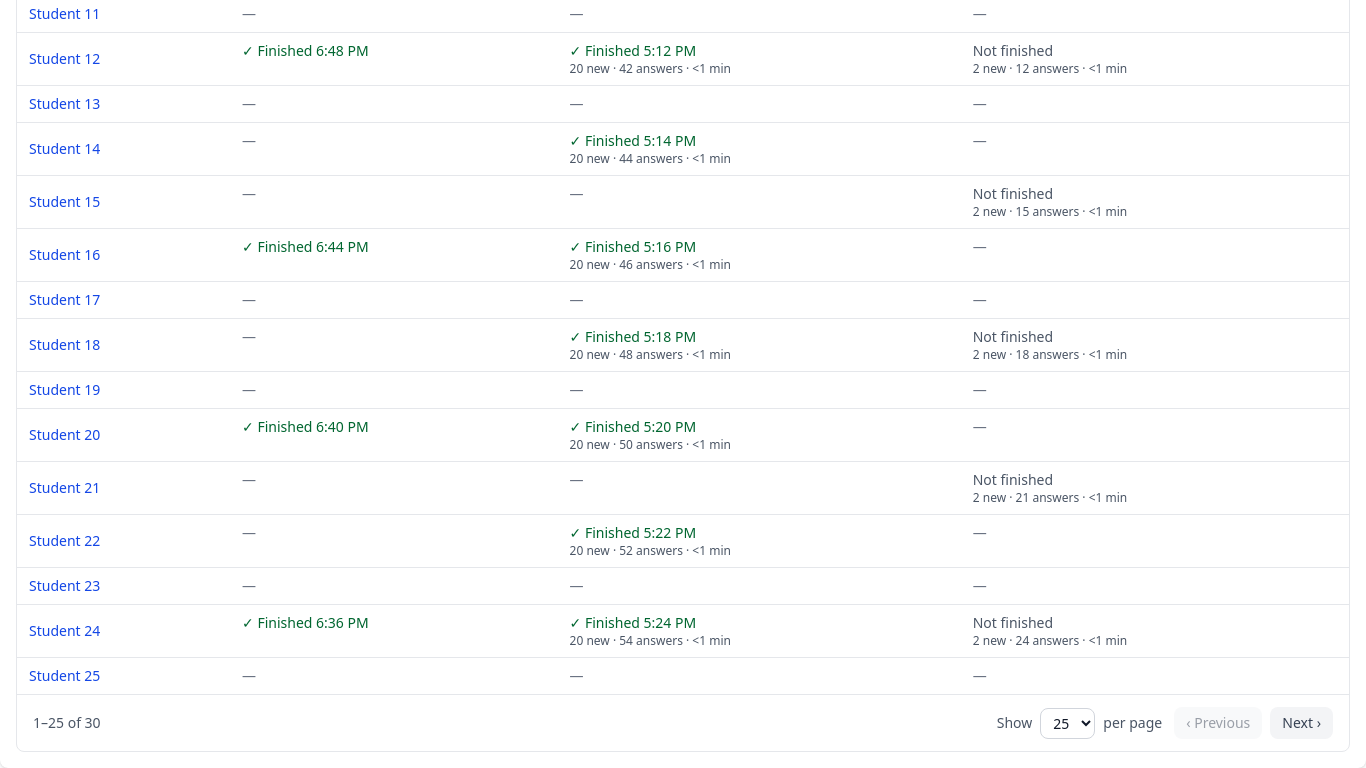
Test: GroupFlashcardsDay › a page of students at a time › searches students by name or email (a school ID in it), from the first page
(page scrolled)
Click the button "Next ›" at point(1302, 723), box [1270,707,1333,739]
(page scrolled)
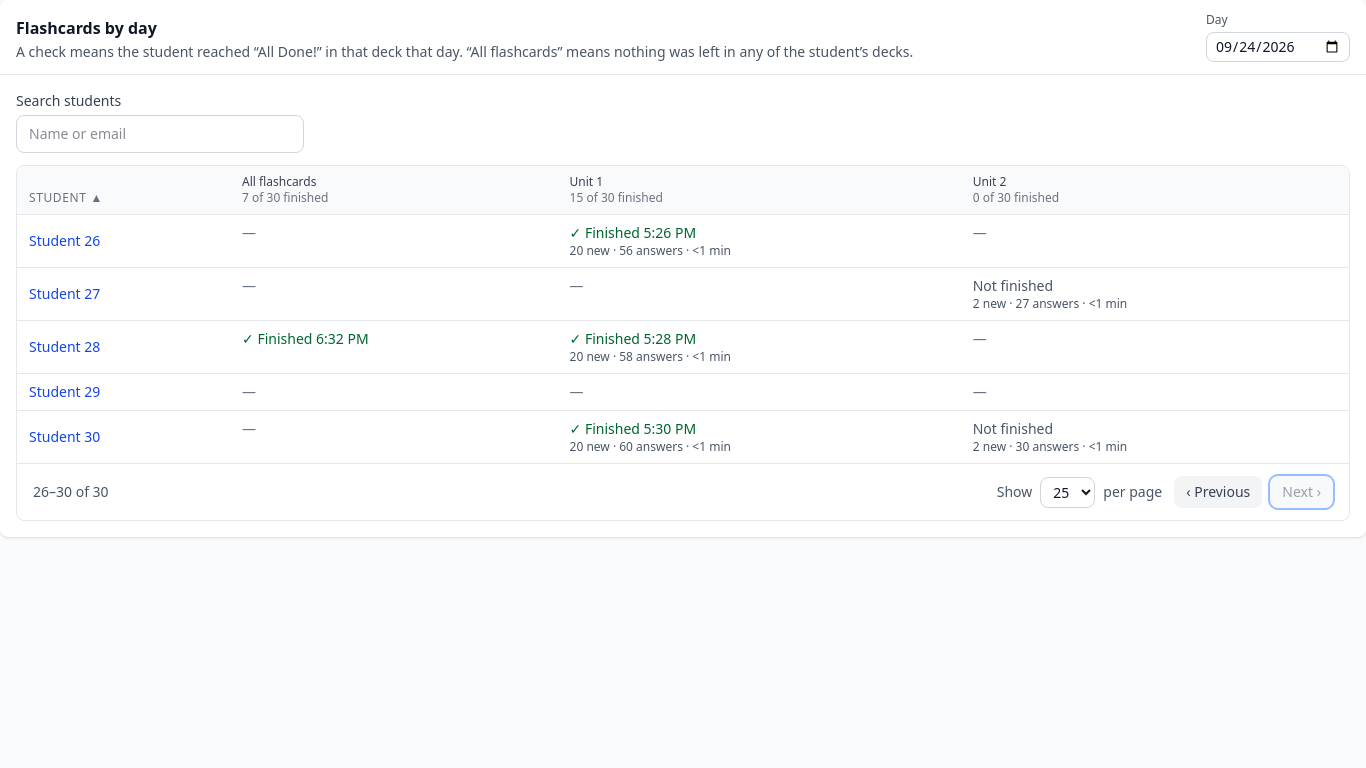
Type "student 1" into the search field labelled "Search students" at point(160, 134), box [16,115,304,153]
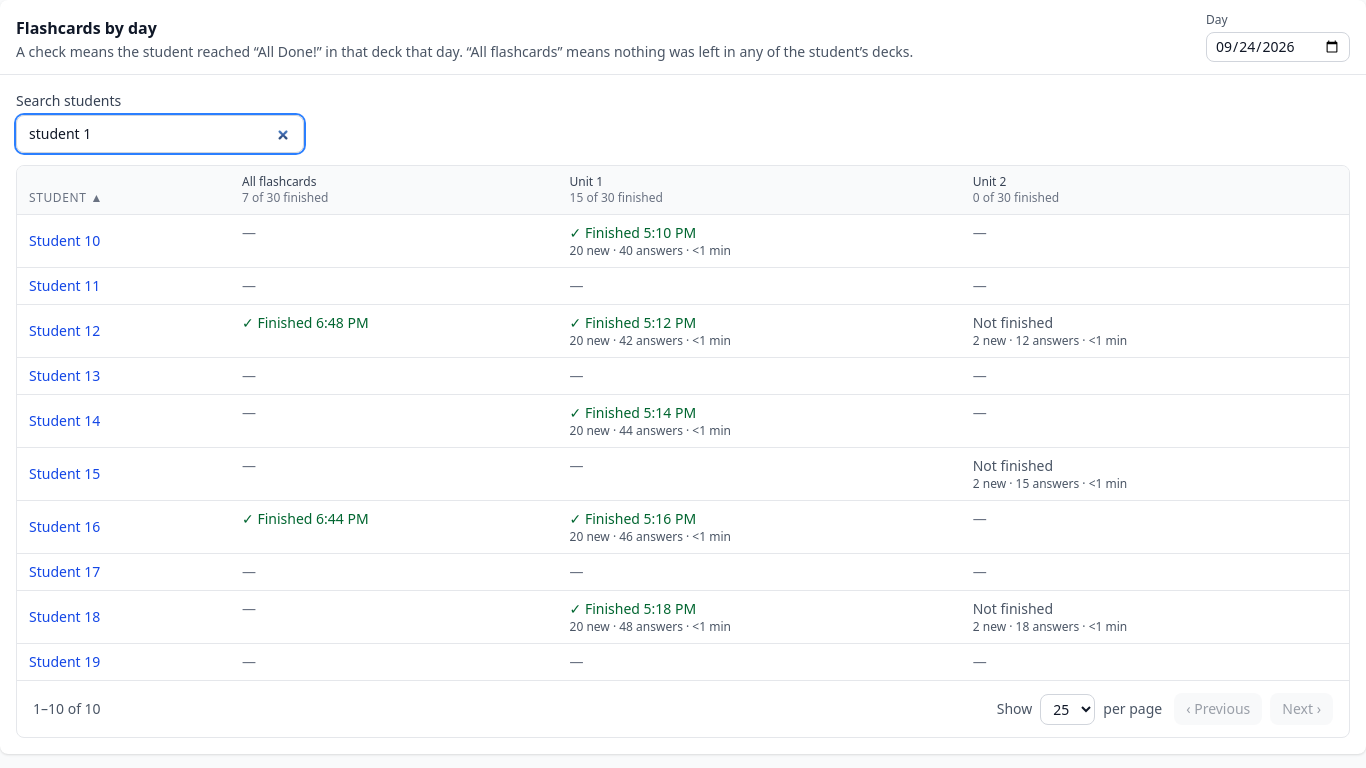
Replace the text in the search field labelled "Search students" with "20027" at point(160, 134), box [16,115,304,153]
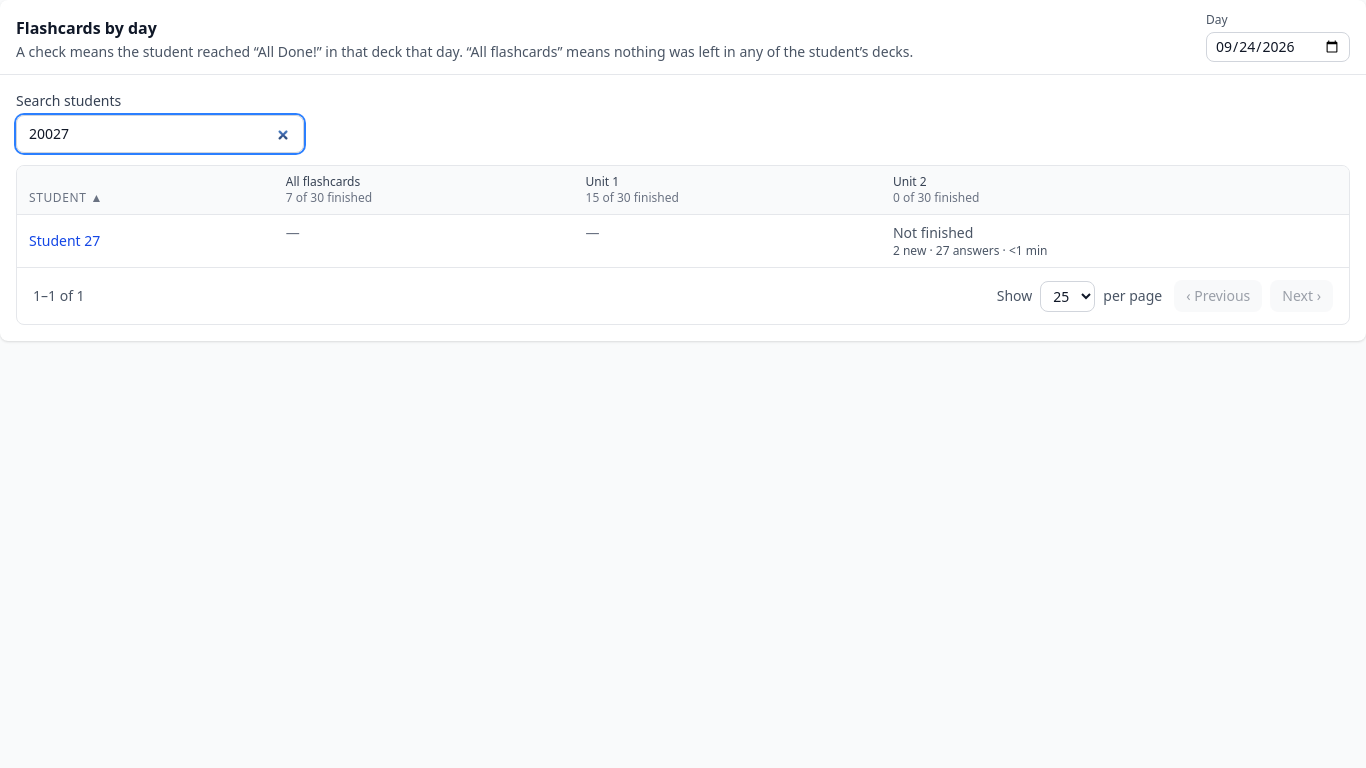
Replace the text in the search field labelled "Search students" with "nobody" at point(160, 134), box [16,115,304,153]
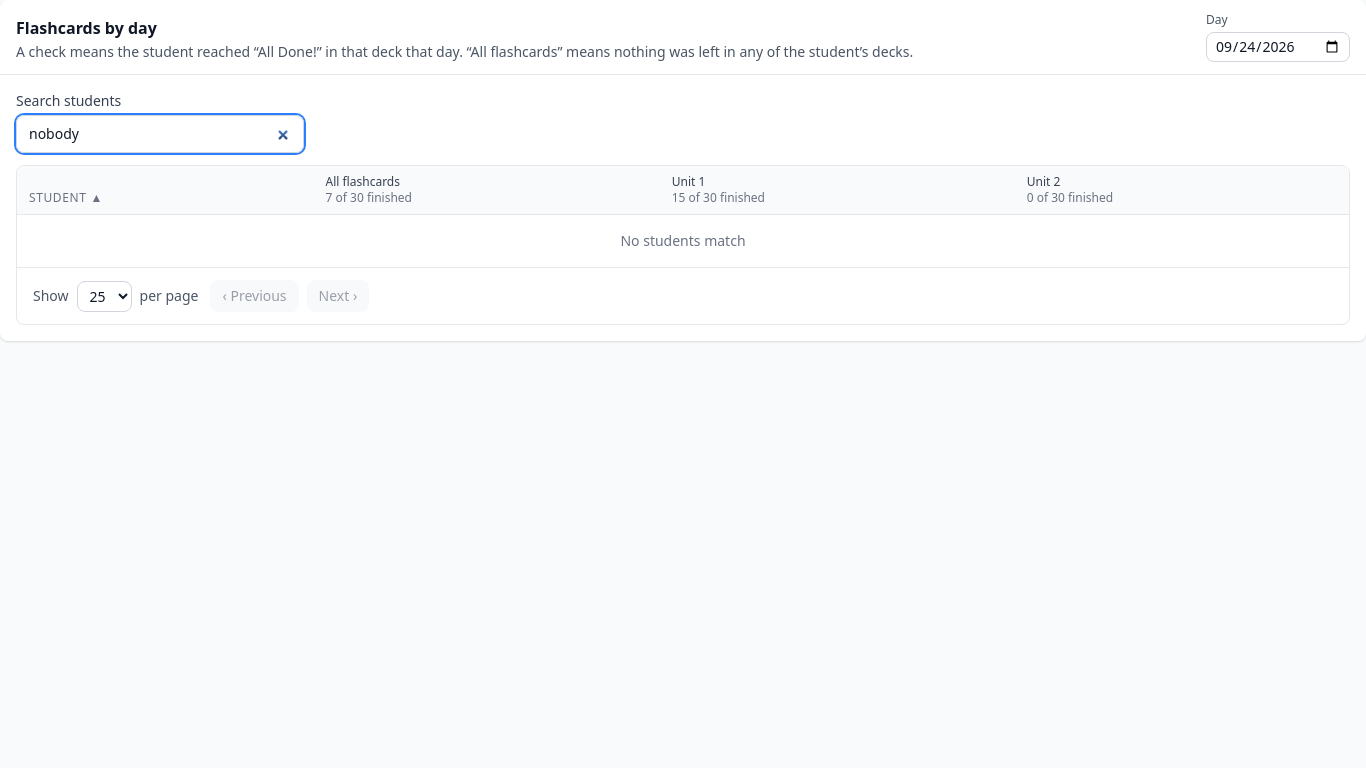
Expected: the column heading "Unit 1 15 of 30 finished" is shown, [660,166,1015,214]
Result: the cell "No students match" is shown at [17,214,1349,267]
